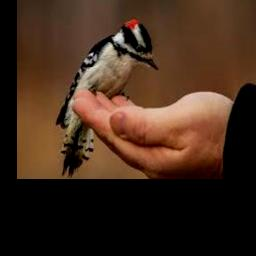Woodpecker: (56, 18, 158, 178)
